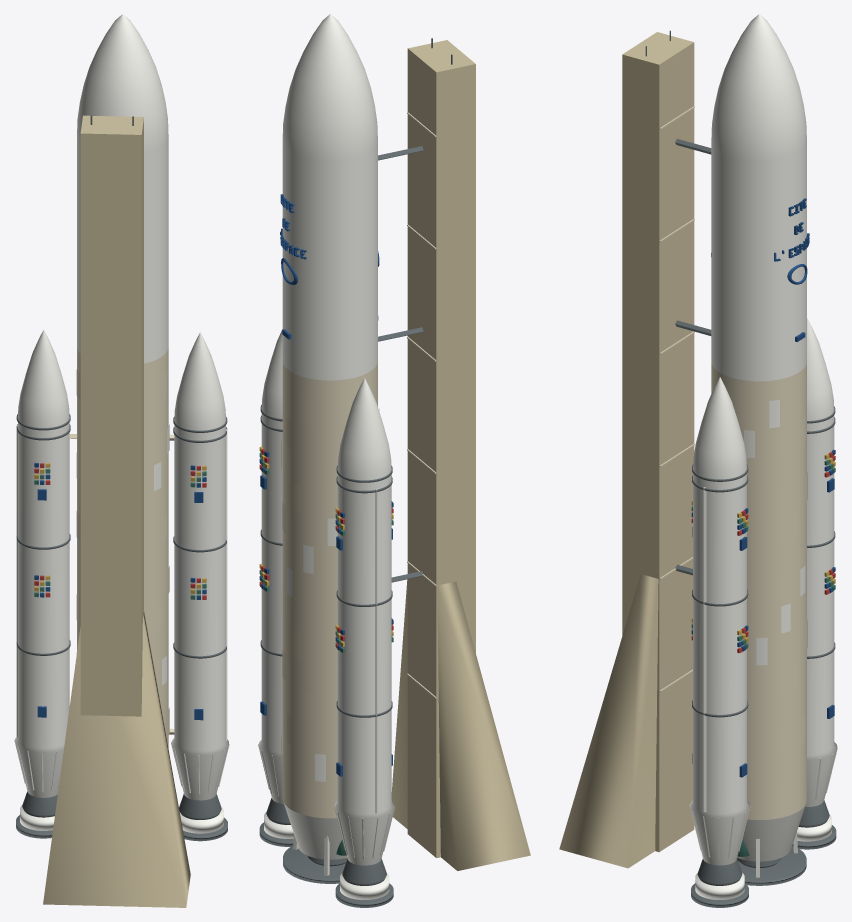
Rendered from cite-de-l-espace-near.glb.
3 views of the same model, side by side, from view 1: azimuth 30°, elevation 25°; view 2: azimuth 150°, elevation 25°; view 3: azimuth 270°, elevation 25° (orthographic). The views are drawn at different scales.
Visible parts, largest first — view 1: cite-de-l-espace-0-tan, cite-de-l-espace-0-white, cite-de-l-espace-0-ivory, cite-de-l-espace-0-metal, cite-de-l-espace-0-blue; view 2: cite-de-l-espace-0-white, cite-de-l-espace-0-tan, cite-de-l-espace-0-ivory, cite-de-l-espace-0-metal, cite-de-l-espace-0-blue; view 3: cite-de-l-espace-0-white, cite-de-l-espace-0-tan, cite-de-l-espace-0-ivory, cite-de-l-espace-0-metal, cite-de-l-espace-0-blue.
Part boxes in pixels (box(x1,y1,x2,y2)): cite-de-l-espace-0-tan: box(43, 115, 190, 907); cite-de-l-espace-0-white: box(14, 14, 229, 833); cite-de-l-espace-0-ivory: box(69, 348, 174, 748); cite-de-l-espace-0-metal: box(16, 115, 227, 841); cite-de-l-espace-0-blue: box(34, 462, 206, 720); cite-de-l-espace-0-white: box(258, 14, 394, 899); cite-de-l-espace-0-tan: box(391, 40, 530, 870); cite-de-l-espace-0-ivory: box(281, 112, 436, 818); cite-de-l-espace-0-metal: box(259, 38, 452, 907); cite-de-l-espace-0-blue: box(259, 194, 393, 776); cite-de-l-espace-0-white: box(689, 14, 837, 899); cite-de-l-espace-0-tan: box(559, 32, 694, 868); cite-de-l-espace-0-ivory: box(659, 106, 807, 819); cite-de-l-espace-0-metal: box(645, 30, 836, 907); cite-de-l-espace-0-blue: box(691, 198, 835, 777).
Size of the model in its own units: 14.96 by 53 by 15.7.
